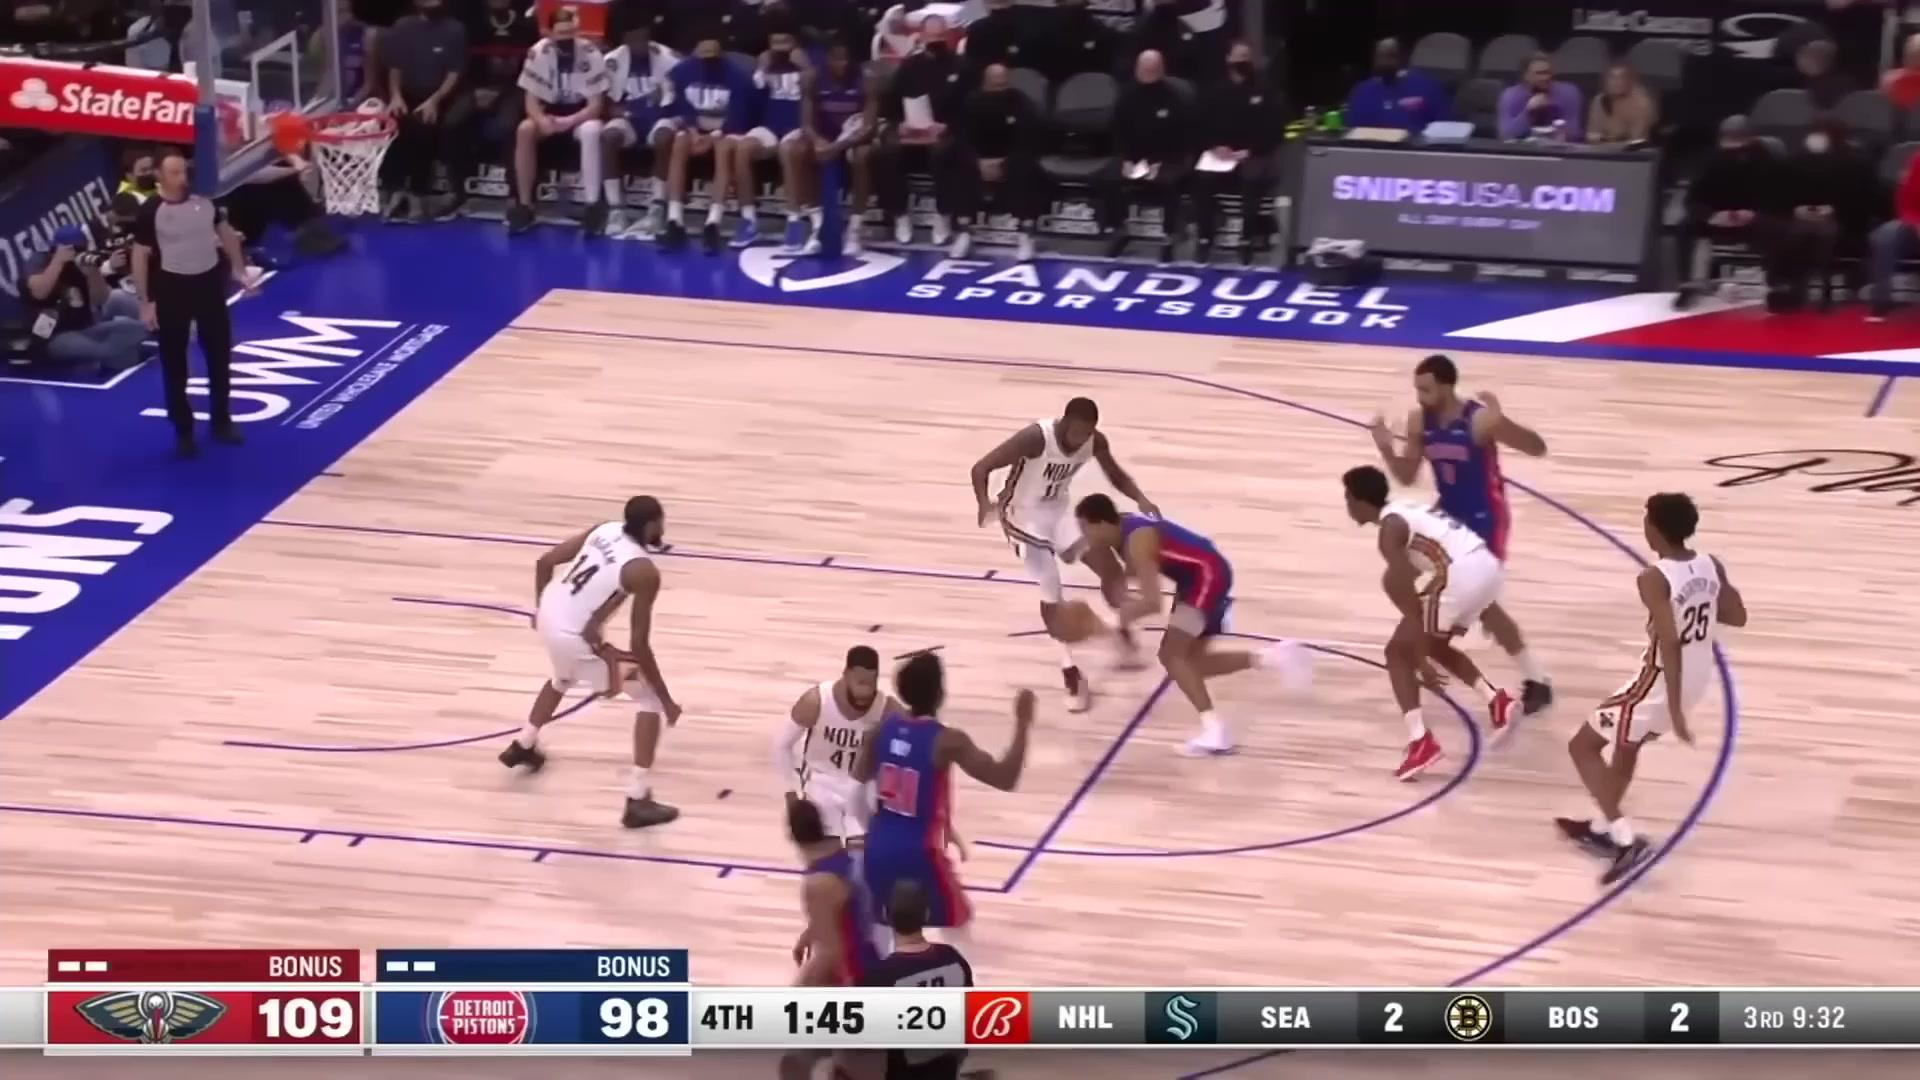no_foul: (931, 360, 1325, 752)
